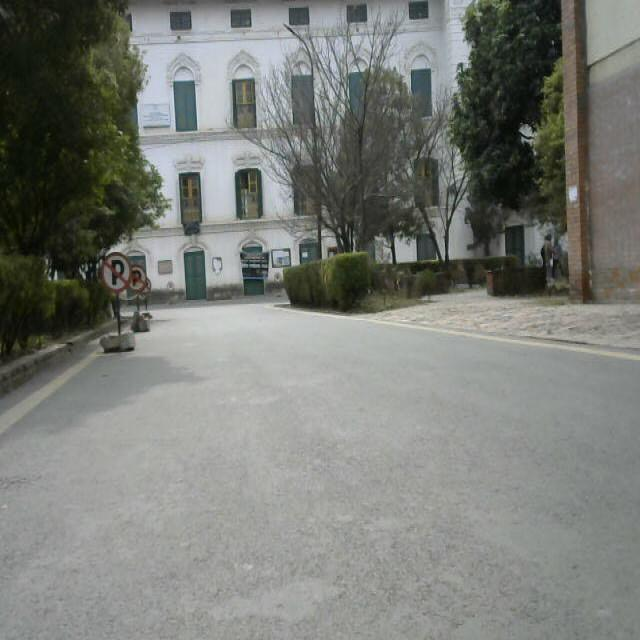Buildings: (135, 8, 456, 282)
NoParking: (96, 250, 134, 354), (130, 264, 145, 333), (141, 276, 153, 326)
Road: (0, 309, 579, 636)
trees: (244, 28, 459, 253), (0, 1, 164, 229), (457, 0, 558, 212)
